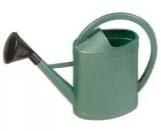ARROSOIR: (3, 0, 159, 129)
